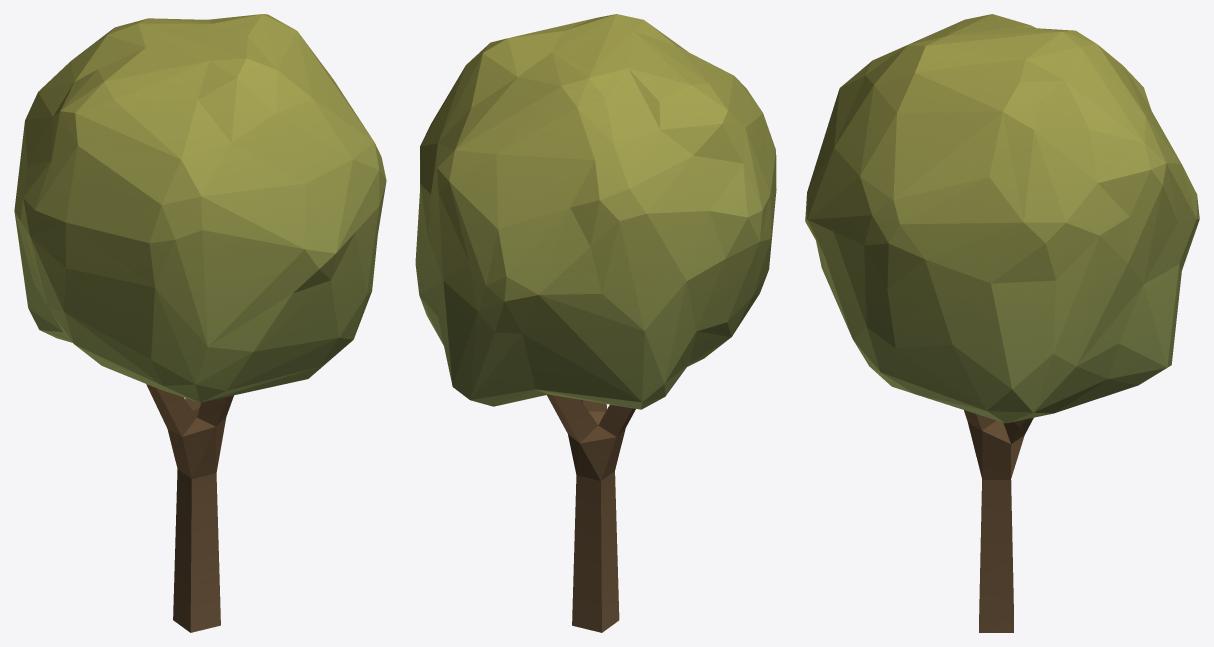
The model's file is medium-tree-3.glb.
3 renders of one model, left to right at view 1: azimuth 30°, elevation 25°; view 2: azimuth 150°, elevation 25°; view 3: azimuth 270°, elevation 25°, orthographic.
Visible parts, largest first — view 1: medium-tree-3; view 2: medium-tree-3; view 3: medium-tree-3.
Part boxes in pixels (<box>): medium-tree-3: <box>14,14,386,632</box>; medium-tree-3: <box>415,14,776,632</box>; medium-tree-3: <box>805,14,1199,632</box>.
Size of the model in its own units: 0.1757 by 0.2982 by 0.1818.
Materials: 1 (1 with a texture image).
